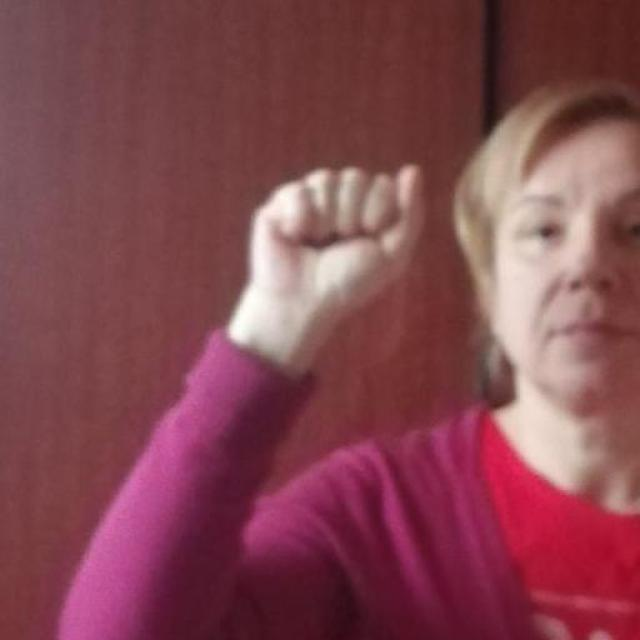hand: (225, 160, 426, 379)
